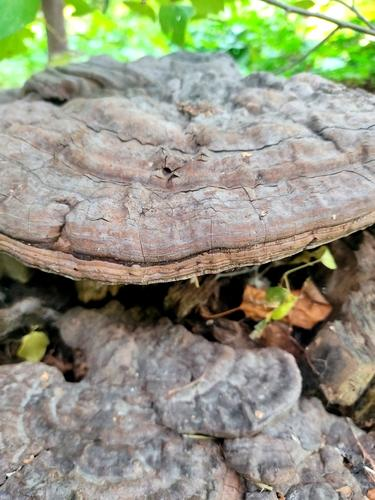Ganoderma - Fruit Body: (0, 56, 375, 283), (0, 310, 374, 500)
